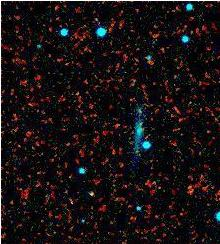star: (130, 92, 160, 122)
